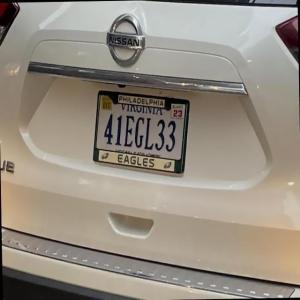Plate: (92, 90, 190, 174)
